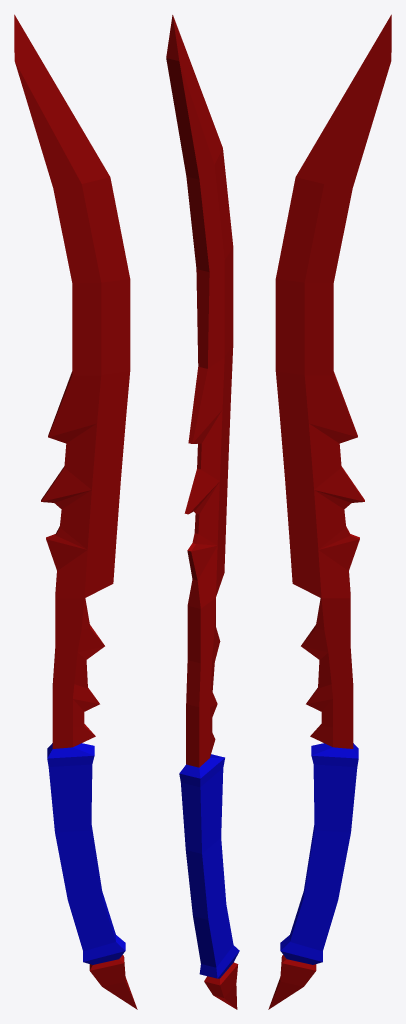
Rendered from Sword_Rare_TorturedSoulKatana.fbx.
3 views of the same model, side by side, from view 1: azimuth 90°, elevation 25°; view 2: azimuth 150°, elevation 25°; view 3: azimuth 270°, elevation 25° (orthographic). The views are drawn at different scales.
Visible parts, largest first — view 1: SM_Wep_DarkElf_01; view 2: SM_Wep_DarkElf_01; view 3: SM_Wep_DarkElf_01.
Boxes of the visible parts, x1,y1,x2,y2 form: SM_Wep_DarkElf_01: (14, 14, 137, 1009); SM_Wep_DarkElf_01: (166, 15, 239, 1009); SM_Wep_DarkElf_01: (268, 14, 391, 1009).
Size of the model in its own units: 2.82 by 132 by 14.83.
